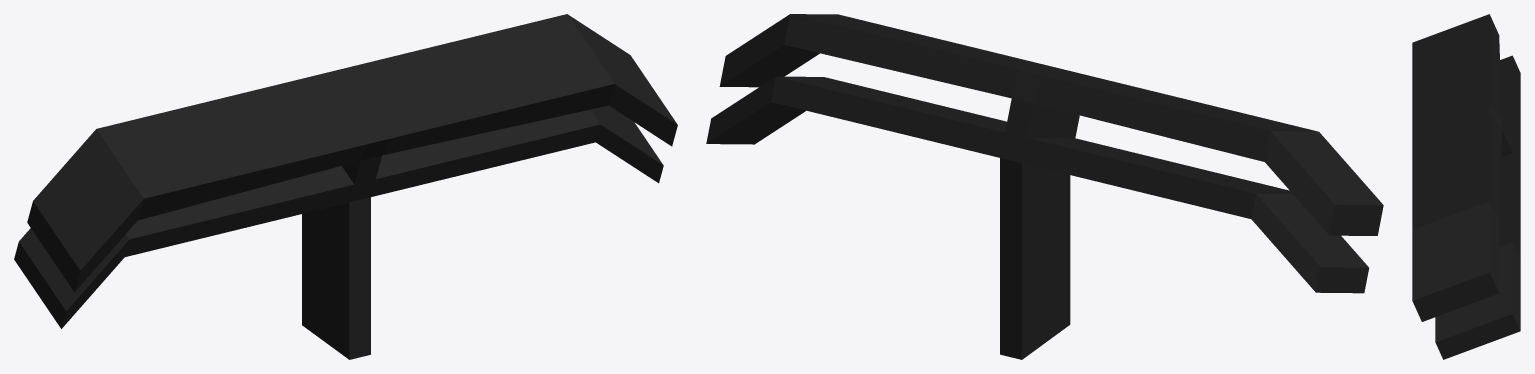
The model's file is spoiler4.glb.
The picture shows the model from 3 angles, left to right: view 1: azimuth 30°, elevation 25°; view 2: azimuth 150°, elevation 25°; view 3: azimuth 270°, elevation 25°; orthographic projection. The views are drawn at different scales.
Visible parts, largest first — view 1: spoiler4; view 2: spoiler4; view 3: spoiler4.
Part boxes in pixels (<box>): spoiler4: <box>14,14,677,359</box>; spoiler4: <box>706,14,1383,359</box>; spoiler4: <box>1412,14,1520,359</box>.
Size of the model in its own units: 2.34 by 0.9924 by 0.4506.
1 material, 1 textured.
